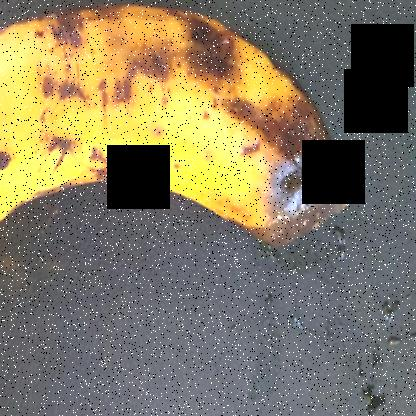overripe: (0, 0, 175, 244)
rotten: (130, 1, 367, 268)
